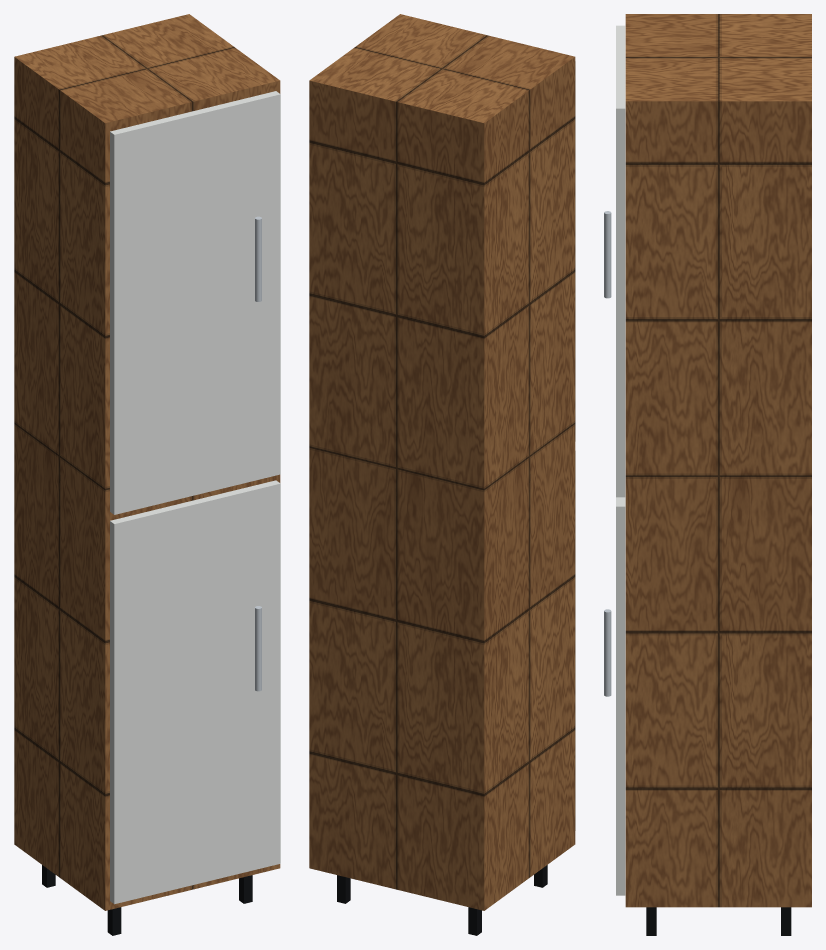
The model's file is Furdoszobaszekreny_40.obj.
The picture shows the model from 3 angles, left to right: view 1: azimuth 30°, elevation 25°; view 2: azimuth 150°, elevation 25°; view 3: azimuth 270°, elevation 25°; orthographic projection. The views are drawn at different scales.
Size of the model in its own units: 0.4 by 1.8 by 0.402.
Materials: 4 (1 with a texture image).
